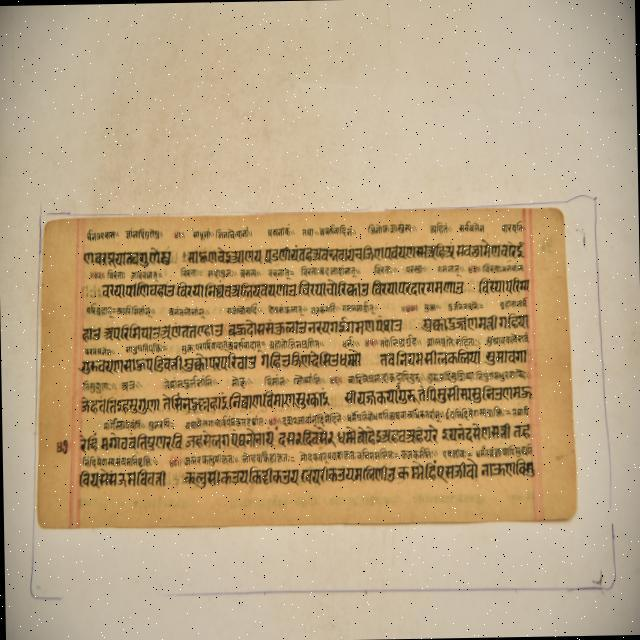text_paragraph: (36, 207, 577, 524)
